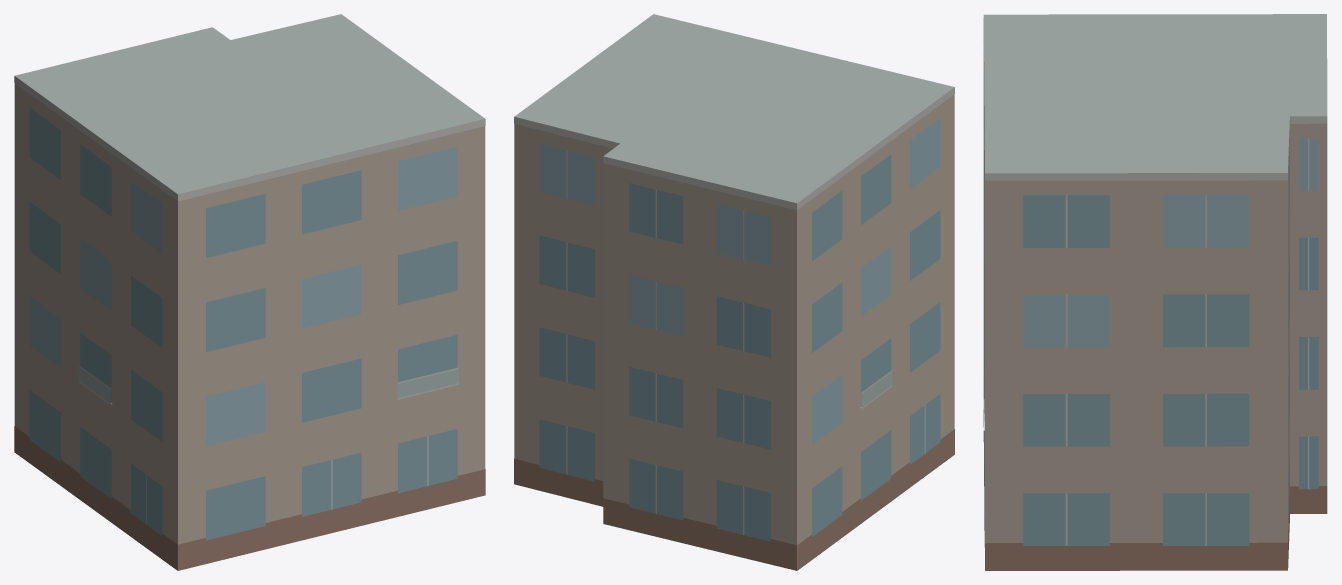
Rendered from survey-upis-32633621.glb.
3 renders of one model, left to right at view 1: azimuth 30°, elevation 25°; view 2: azimuth 150°, elevation 25°; view 3: azimuth 270°, elevation 25°, orthographic. The views are drawn at different scales.
Parts seen in each view (by area): view 1: survey-upis-32633621.tmp; view 2: survey-upis-32633621.tmp; view 3: survey-upis-32633621.tmp.
Part boxes in pixels (<box>): survey-upis-32633621.tmp: <box>14,14,485,570</box>; survey-upis-32633621.tmp: <box>514,14,954,570</box>; survey-upis-32633621.tmp: <box>983,14,1327,570</box>.
Bounding box in the file's own units: 11.11 × 12.9 × 10.13.
